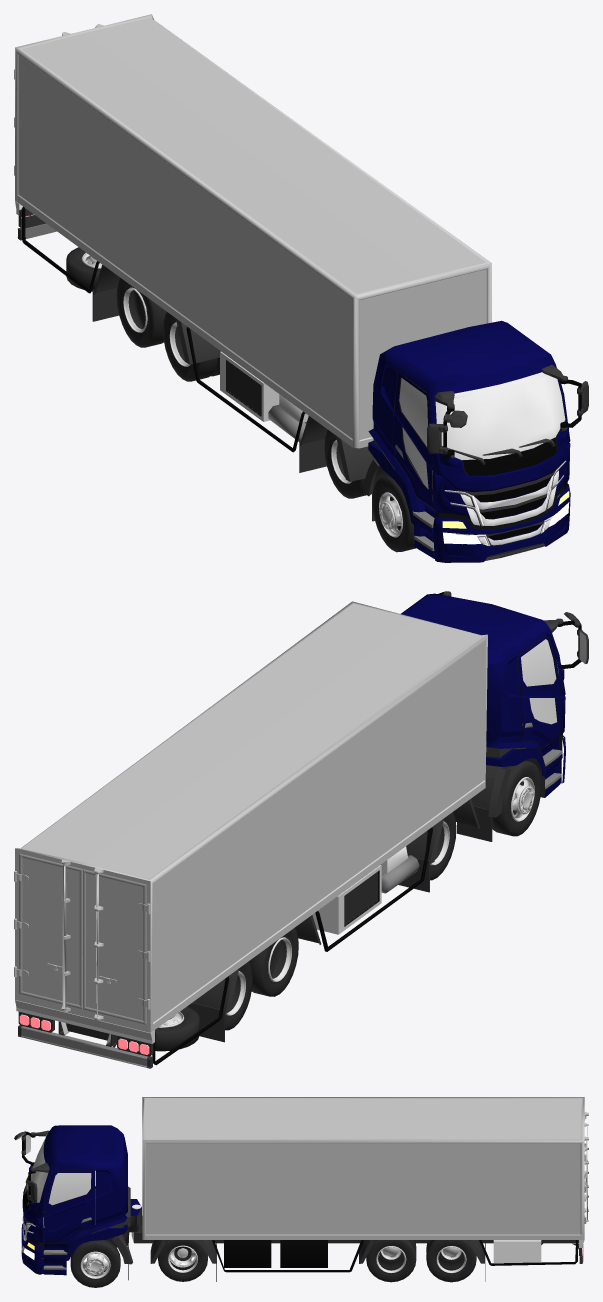
Rendered from car-lorry.glb.
3 renders of one model, top to bottom at view 1: azimuth 30°, elevation 25°; view 2: azimuth 150°, elevation 25°; view 3: azimuth 270°, elevation 25°, orthographic. The views are drawn at different scales.
Parts seen in each view (by area): view 1: Truck_body_Truck_body.L_3, Truck_head_Truck_head.L_1, wheels_Circle.006_20, wheels_Circle.027_9, wheels_Circle.010_18, wheels_Circle.028_11, wheels_Circle.026_8; view 2: Truck_body_Truck_body.L_3, Truck_head_Truck_head.L_1, wheels_Circle.010_18, wheels_Circle.027_9, wheels_Circle.006_20, wheels_Circle.026_8, wheels_Circle.028_11; view 3: Truck_body_Truck_body.L_3, Truck_head_Truck_head.L_1, wheels_Circle.013_26, wheels_Circle.008_23, wheels_Circle.001_5, wheels_Circle.025_15, wheels_Circle.002_6, wheels_Circle.024_14, wheels_Circle.014_27, wheels_Circle.012_24.
Part boxes in pixels (<box>): Truck_body_Truck_body.L_3: <box>14,14,491,481</box>; Truck_head_Truck_head.L_1: <box>363,320,588,562</box>; wheels_Circle.006_20: <box>116,278,166,347</box>; wheels_Circle.027_9: <box>372,475,415,552</box>; wheels_Circle.010_18: <box>163,312,219,381</box>; wheels_Circle.028_11: <box>324,430,366,498</box>; wheels_Circle.026_8: <box>379,492,402,537</box>; Truck_body_Truck_body.L_3: <box>14,601,487,1068</box>; Truck_head_Truck_head.L_1: <box>401,591,588,841</box>; wheels_Circle.010_18: <box>249,928,298,996</box>; wheels_Circle.027_9: <box>492,760,541,836</box>; wheels_Circle.006_20: <box>225,961,252,1030</box>; wheels_Circle.026_8: <box>511,777,534,821</box>; wheels_Circle.028_11: <box>430,812,456,880</box>; Truck_body_Truck_body.L_3: <box>131,1097,588,1281</box>; Truck_head_Truck_head.L_1: <box>14,1125,141,1280</box>; wheels_Circle.013_26: <box>426,1240,476,1282</box>; wheels_Circle.008_23: <box>366,1240,416,1282</box>; wheels_Circle.001_5: <box>70,1239,120,1287</box>; wheels_Circle.025_15: <box>158,1240,207,1281</box>; wheels_Circle.002_6: <box>80,1251,110,1278</box>; wheels_Circle.024_14: <box>168,1245,197,1272</box>; wheels_Circle.014_27: <box>436,1246,466,1273</box>; wheels_Circle.012_24: <box>376,1246,406,1273</box>.
Bounding box in the file's own units: 3.45 × 4.51 × 15.91.
